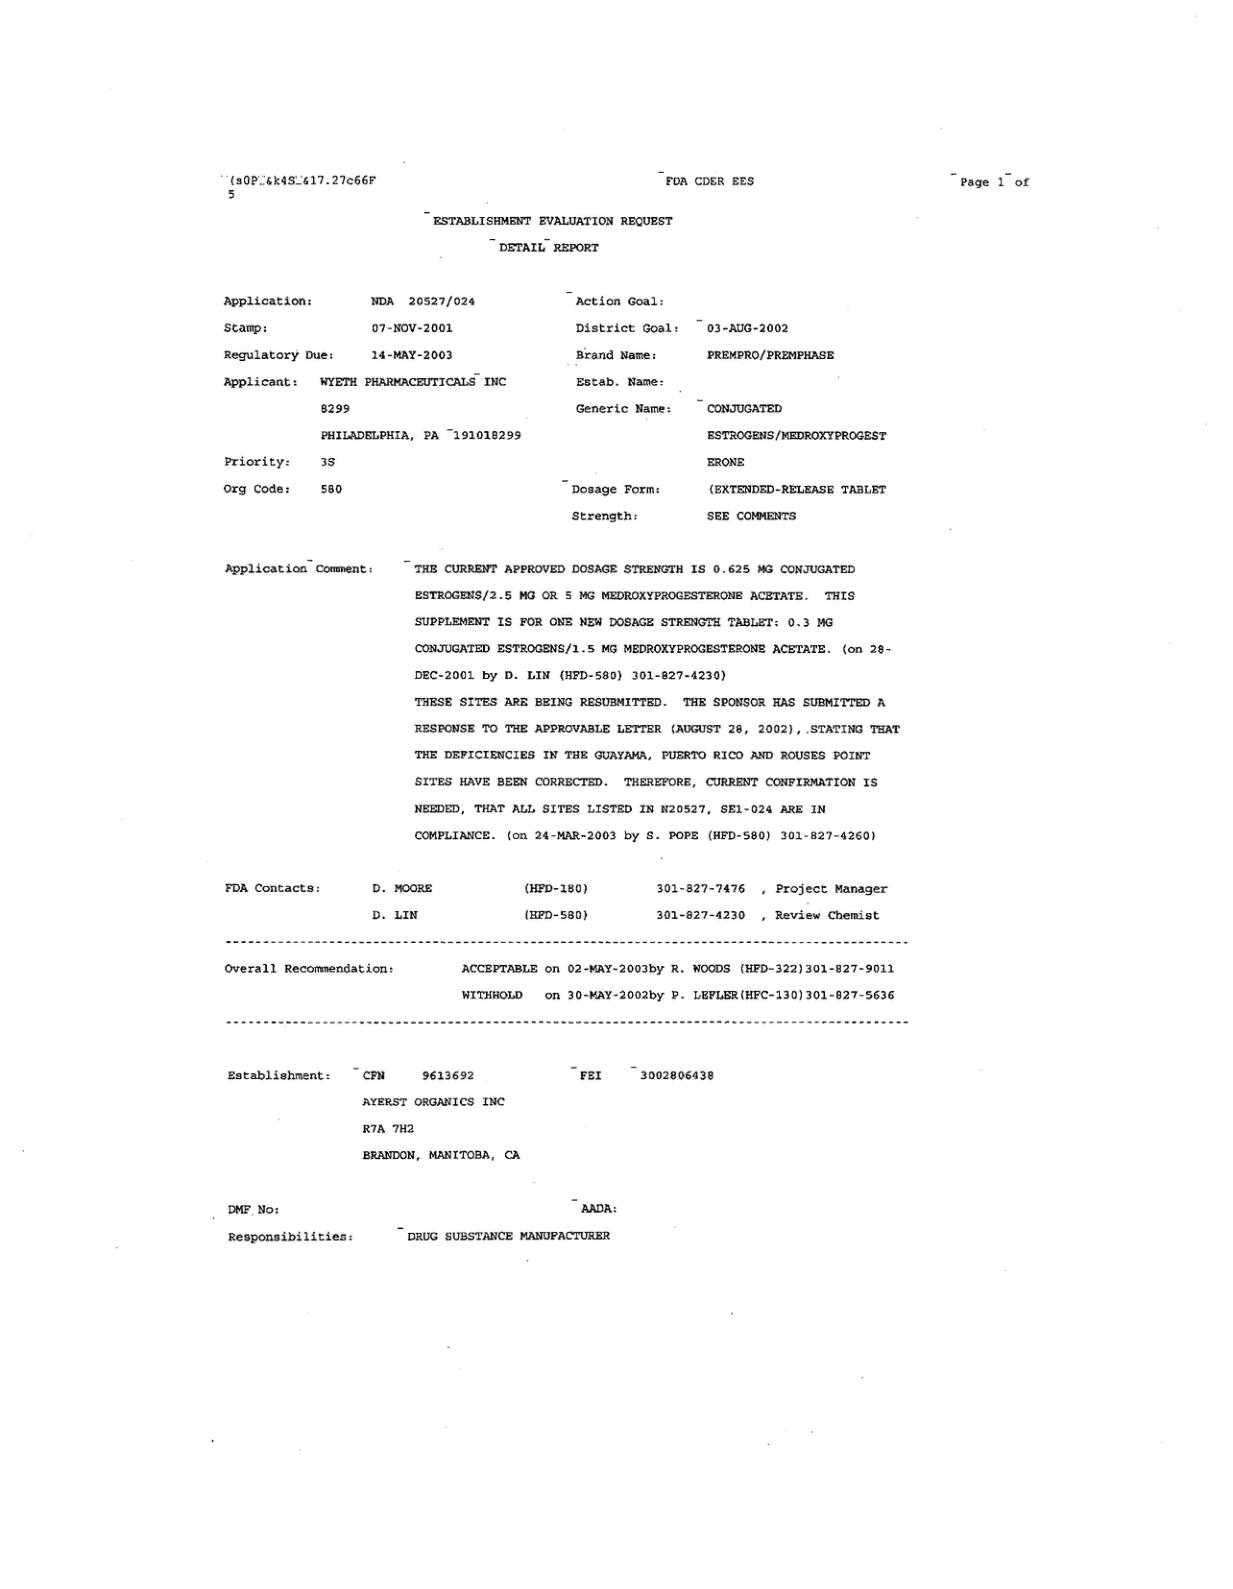nolines: (221, 291, 893, 528), (224, 1063, 718, 1246), (221, 876, 895, 930), (223, 957, 898, 1006)
